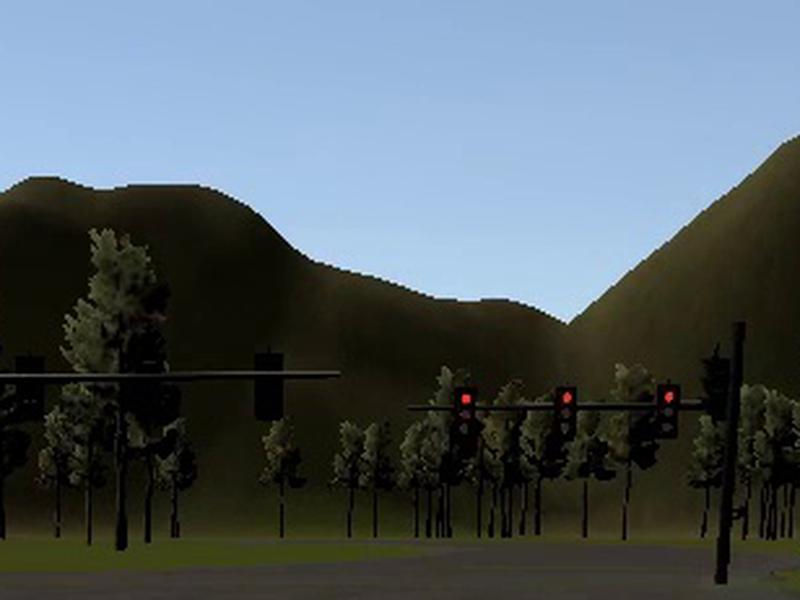Red: (453, 386, 478, 444), (654, 384, 680, 438), (552, 385, 576, 439)
